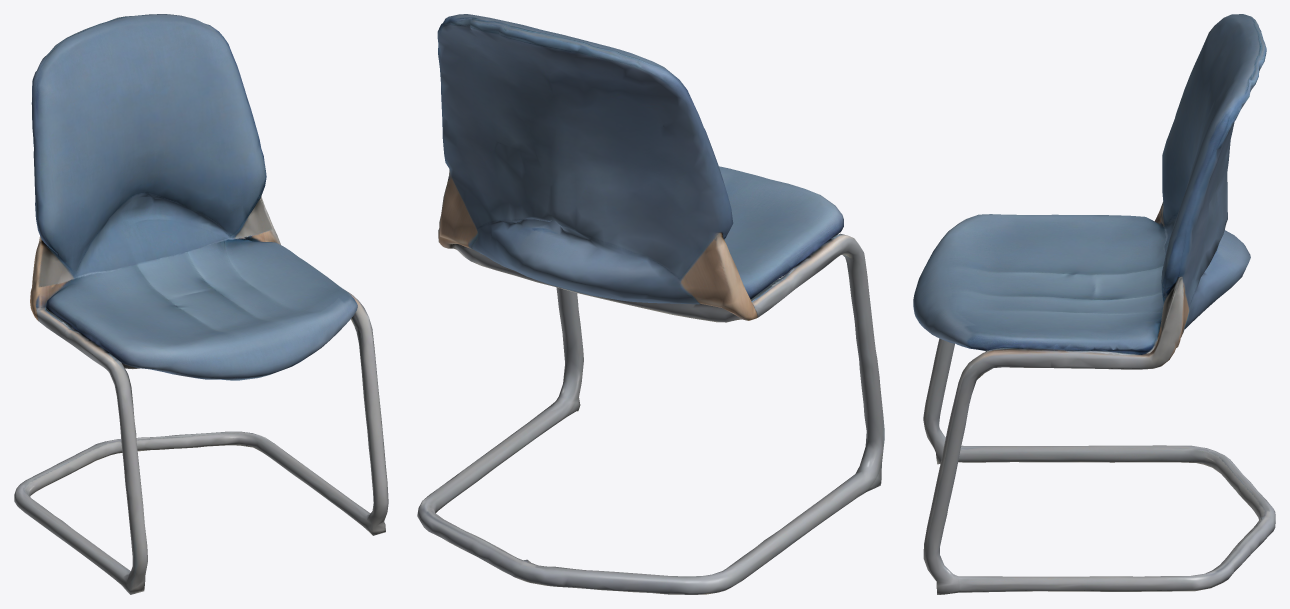
File: AI_chiar.glb
3 views of the same model, side by side, from view 1: azimuth 30°, elevation 25°; view 2: azimuth 150°, elevation 25°; view 3: azimuth 270°, elevation 25° (orthographic). The views are drawn at different scales.
Bounding box in the file's own units: 1.23 × 2.01 × 1.36.
Materials: 1 (1 with a texture image).
